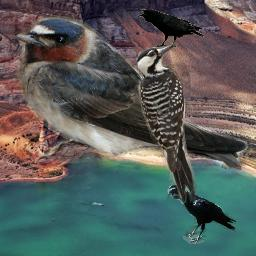Crow: (167, 184, 236, 244), (138, 9, 205, 48)
Swallow: (10, 15, 250, 173)
Woodpecker: (136, 43, 197, 203)
